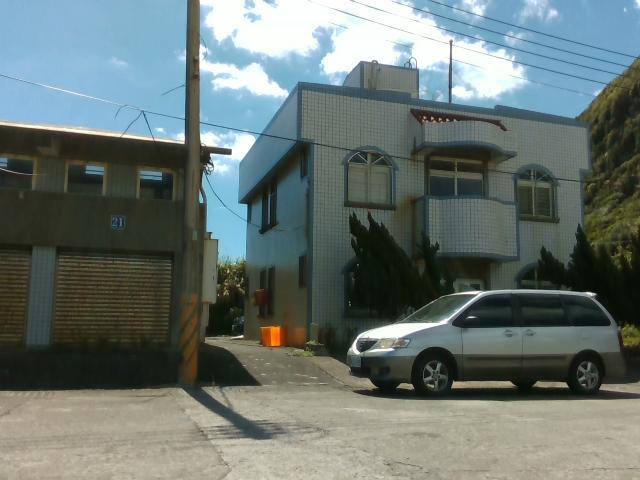pollute: (256, 325, 289, 350)
